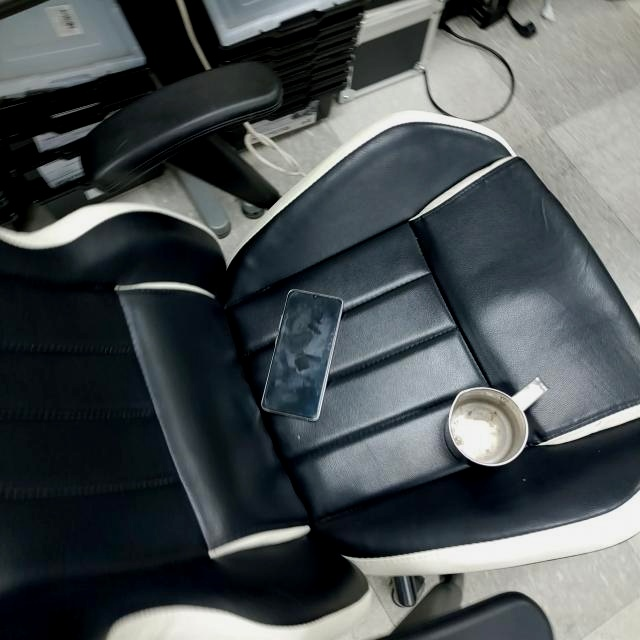cup: (440, 372, 550, 468)
phone: (257, 289, 344, 420)
